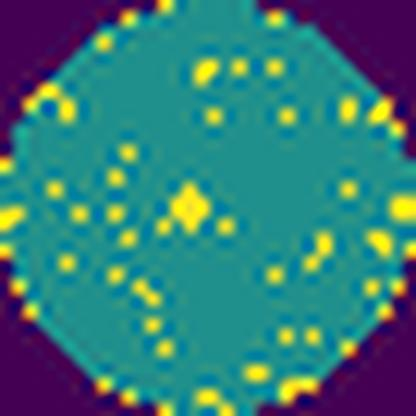Center: (166, 180, 215, 236)
